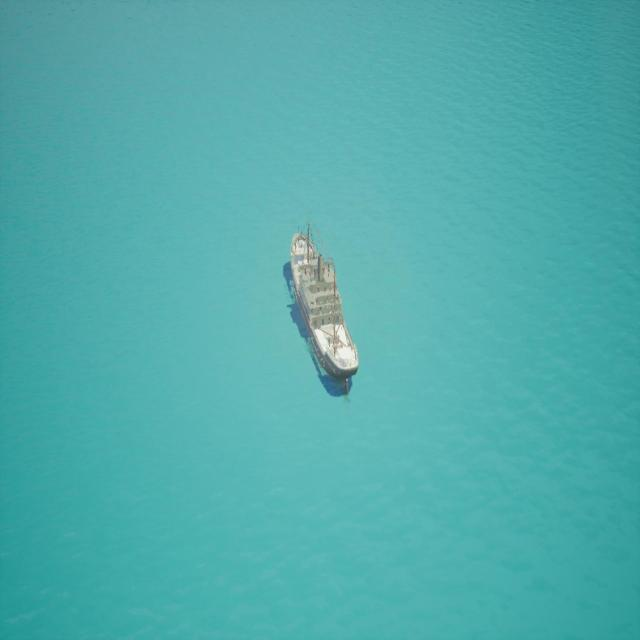fishing ship: (285, 215, 361, 395)
